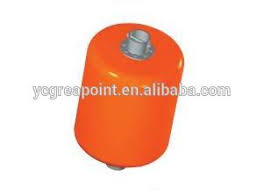buoy: (74, 21, 186, 169)
